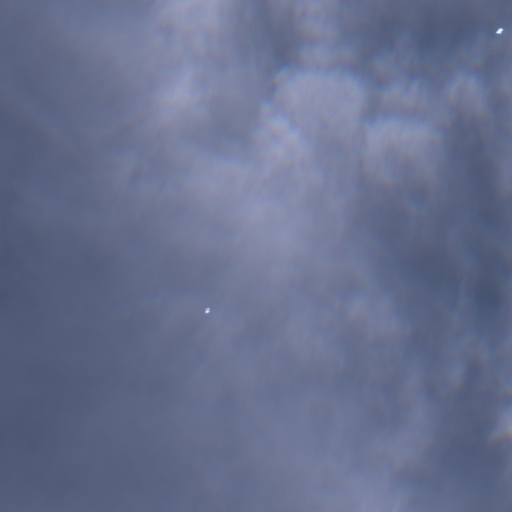Iceberg: (496, 28, 503, 33), (205, 308, 209, 313)
